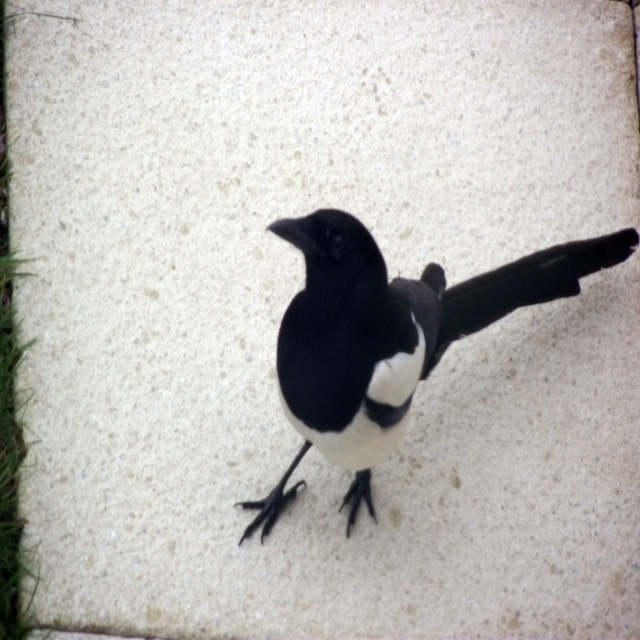Magpie: (233, 207, 640, 549)
